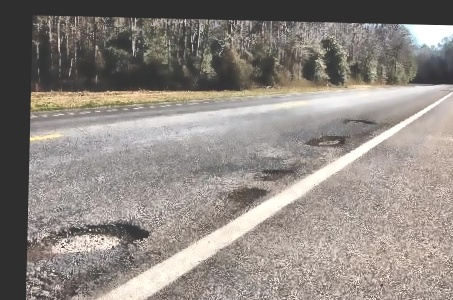pothole: (41, 219, 149, 258), (225, 185, 267, 206), (303, 133, 348, 149), (258, 166, 295, 181), (341, 117, 375, 126)
